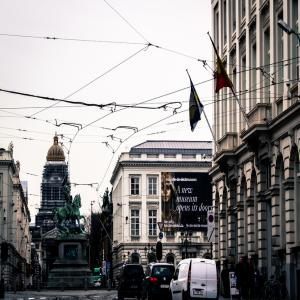Vehicle-registration-plate: (194, 291, 205, 297), (161, 285, 170, 289)
